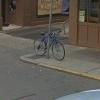Bicycle: (29, 27, 67, 65)
